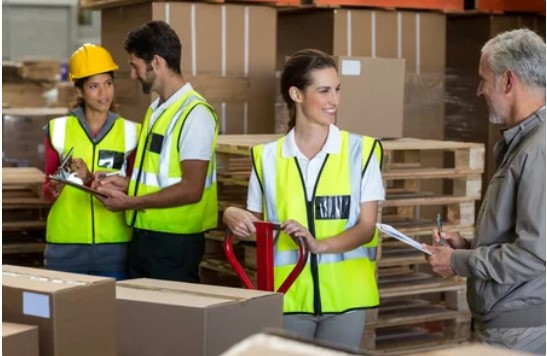worker: (255, 51, 380, 313), (126, 36, 219, 233), (49, 44, 138, 242)
